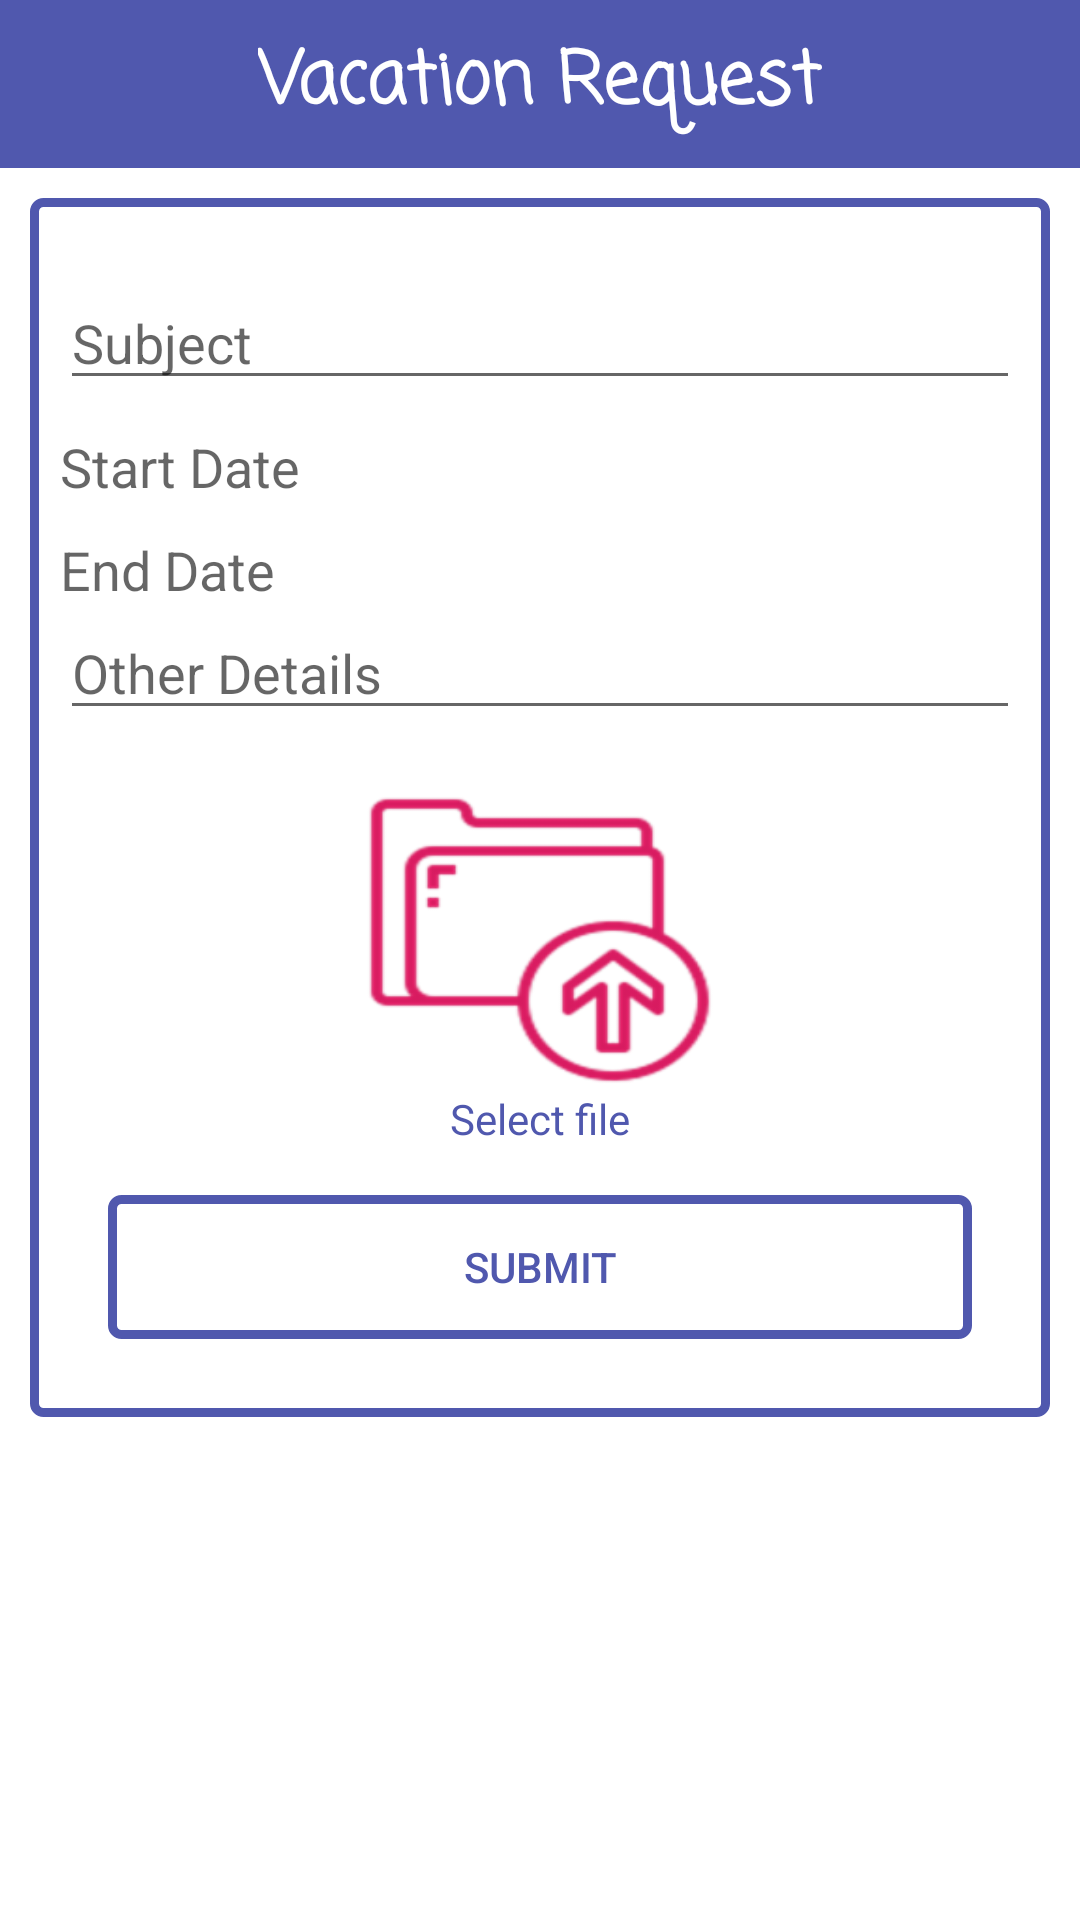

Screen size 1080 x 1920. Icon name, then its center in pixels as point (x, y):
upload: point (540, 940)
